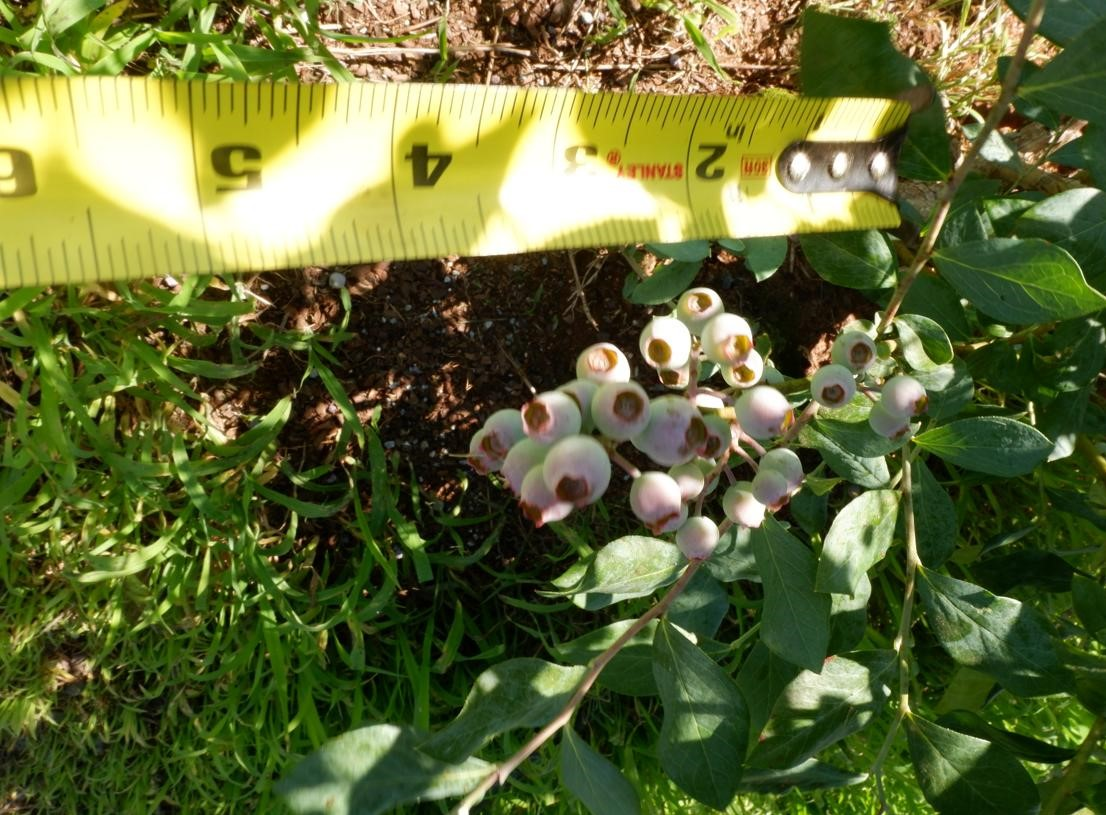Immature: (633, 395, 709, 467), (543, 433, 611, 506), (591, 381, 652, 441), (519, 463, 573, 529), (520, 390, 582, 446), (735, 384, 795, 441), (629, 472, 681, 530), (639, 316, 694, 369), (700, 312, 754, 365), (502, 439, 549, 497), (555, 380, 603, 435), (479, 409, 526, 461), (677, 287, 726, 336), (577, 342, 630, 385), (810, 363, 856, 410), (879, 376, 929, 418), (758, 447, 802, 493), (723, 481, 766, 528), (675, 516, 719, 561), (831, 331, 878, 372), (868, 401, 911, 441), (467, 430, 506, 474), (721, 349, 763, 389), (656, 356, 703, 390), (667, 462, 705, 500), (700, 415, 732, 458), (752, 470, 789, 506), (653, 500, 689, 536), (743, 366, 784, 395), (689, 456, 720, 494), (685, 386, 724, 408)
